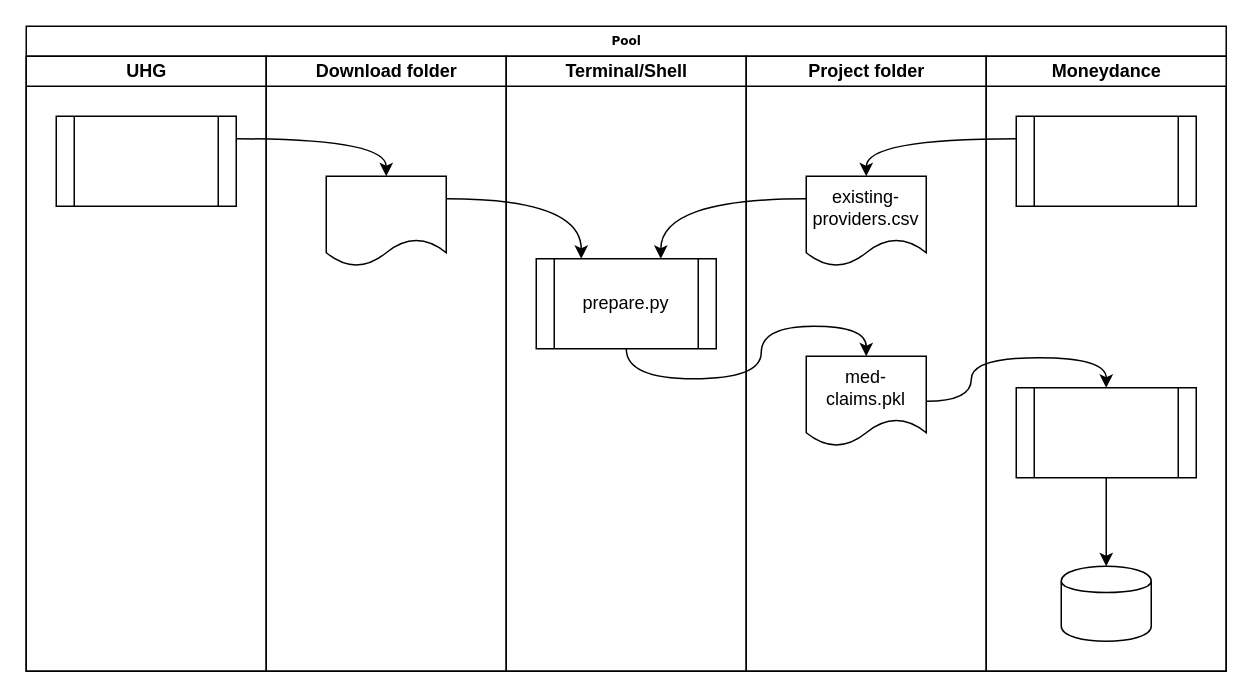
This 1253x698 diagram has some shape labels left out. The centre of each missing label's shape, as x and y in pixels:
Claim portal: (145,160)
list-medical-providers.py: (1105,160)
MD Data: (1105,603)
med-ins-bridge.py: (1105,432)
MedicalClaimSummary.csv: (385,220)
